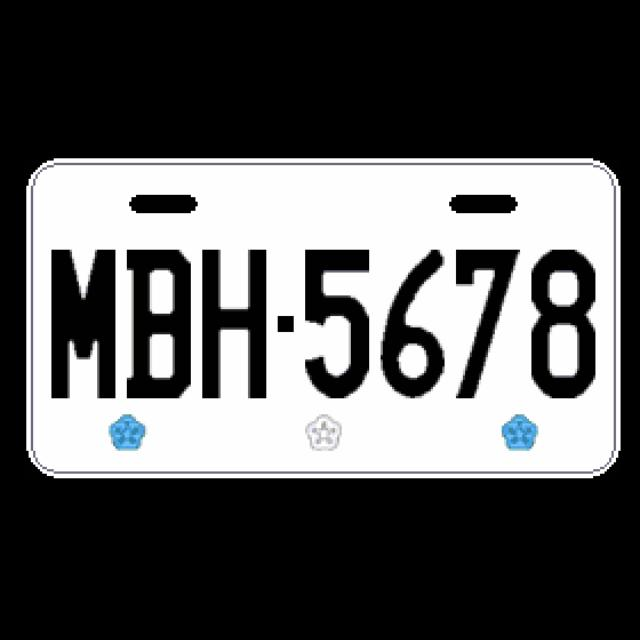plate: (23, 155, 623, 482)
